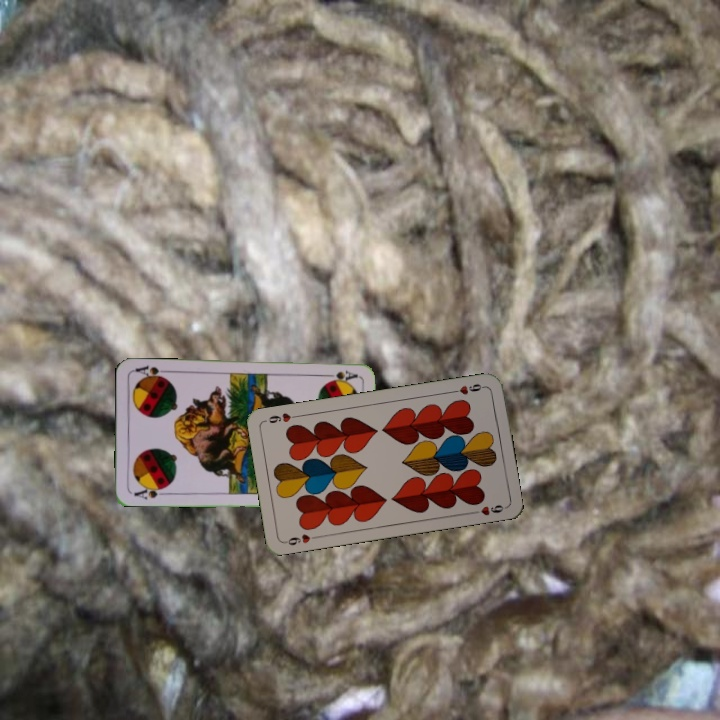H9: (280, 530, 321, 548), (447, 380, 488, 397)
SA: (130, 482, 169, 502), (319, 366, 359, 384)
